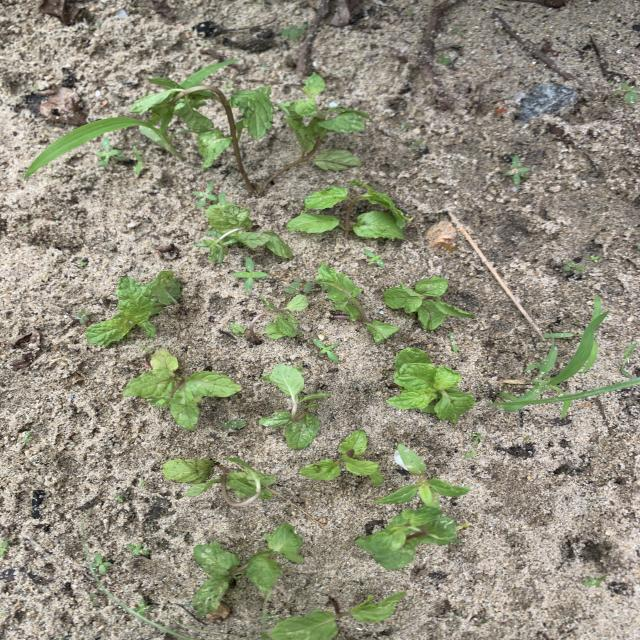crop: (131, 75, 271, 168), (270, 73, 367, 183), (192, 524, 303, 614), (123, 349, 239, 428), (86, 271, 180, 346), (287, 181, 410, 238), (356, 507, 462, 569), (387, 348, 474, 422), (268, 593, 406, 639), (319, 262, 398, 342), (260, 364, 331, 448), (376, 445, 469, 507), (162, 457, 275, 505), (206, 201, 291, 259), (384, 277, 474, 329), (231, 295, 307, 342), (300, 430, 371, 479)
weed: (492, 297, 640, 417), (25, 117, 148, 176), (234, 258, 267, 290), (196, 231, 226, 262), (504, 155, 530, 183), (194, 182, 223, 207), (97, 137, 120, 166), (313, 338, 338, 362), (615, 82, 639, 103), (622, 342, 637, 375), (88, 553, 111, 574), (281, 24, 309, 39), (286, 279, 311, 294), (365, 249, 383, 267), (564, 259, 583, 274), (133, 147, 143, 175), (126, 544, 150, 555), (584, 576, 606, 587), (76, 309, 91, 323), (222, 420, 245, 429), (463, 447, 475, 459), (411, 139, 425, 149), (0, 541, 7, 557), (450, 335, 457, 351), (471, 433, 480, 445), (114, 495, 123, 502), (590, 256, 599, 261)
